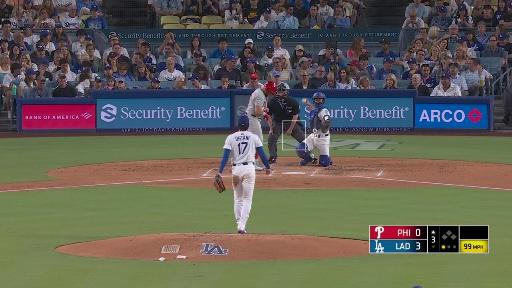pitcher: (212, 115, 271, 233)
